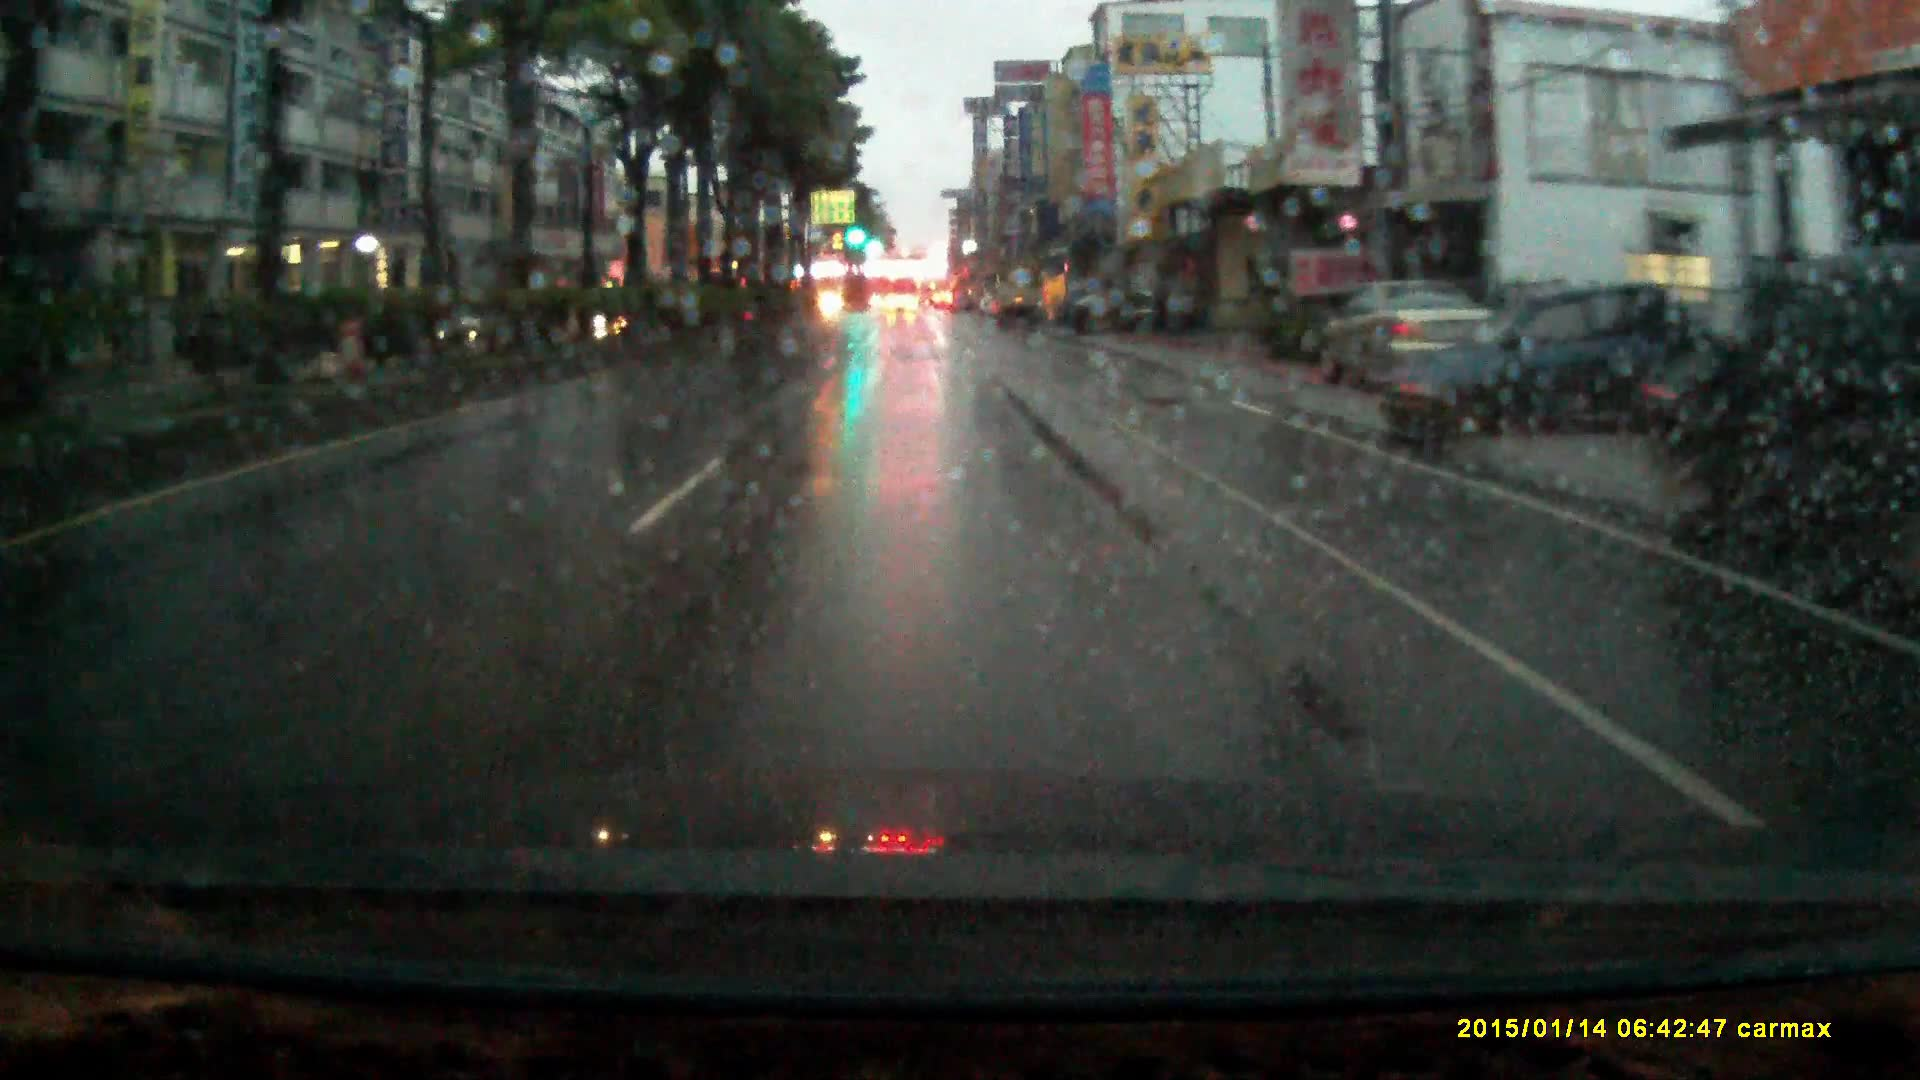vehicle: (1668, 247, 1920, 580), (1379, 286, 1758, 448), (1305, 284, 1502, 394), (1054, 291, 1204, 338), (993, 286, 1040, 334), (886, 297, 919, 320)
